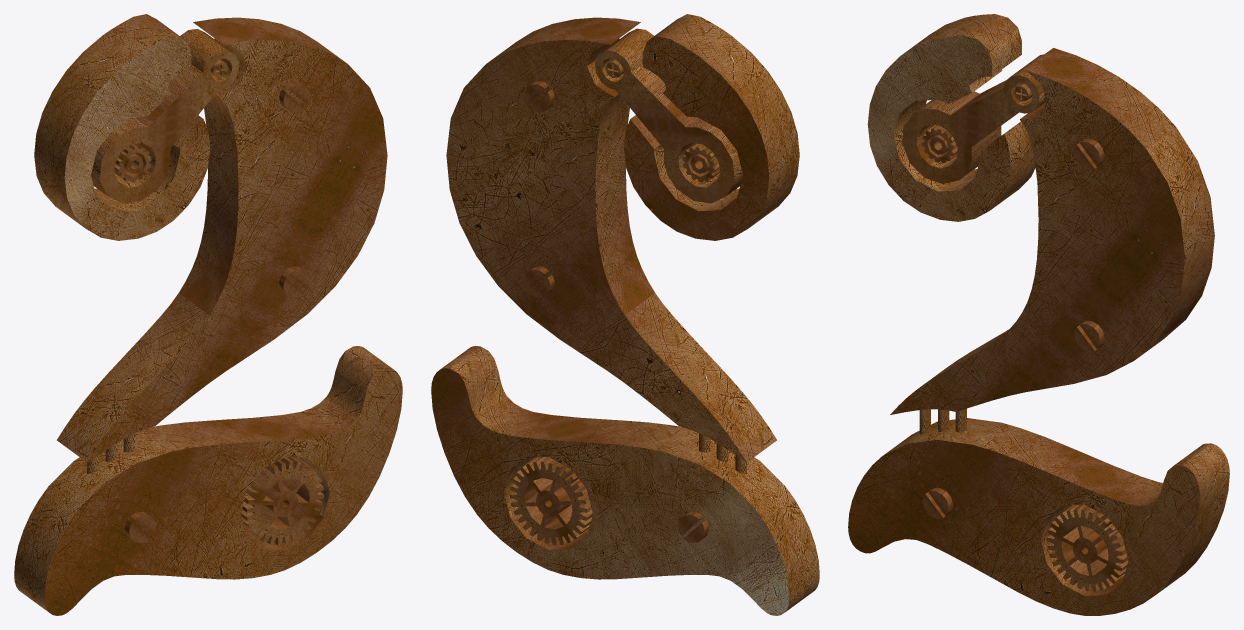
3 renders of one model, left to right at view 1: azimuth 30°, elevation 25°; view 2: azimuth 150°, elevation 25°; view 3: azimuth 330°, elevation 25°, orthographic.
Parts seen in each view (by area): view 1: 035, 052, Lever_035, Cogwheel_386, Cogwheel_433, Screw_717, Screw_754, Screw_766; view 2: 035, 052, Lever_035, Cogwheel_386, Cogwheel_433, Screw_717, Screw_754, Screw_766; view 3: 035, 052, Lever_035, Cogwheel_386, Cogwheel_433, Screw_766, Screw_754, Screw_717.
Boxes of the visible parts, x1,y1,x2,y2 form: 035: [14, 17, 402, 615]; 052: [34, 14, 209, 240]; Lever_035: [91, 28, 239, 203]; Cogwheel_386: [241, 457, 324, 545]; Cogwheel_433: [114, 143, 151, 182]; Screw_717: [279, 266, 309, 297]; Screw_754: [279, 81, 309, 112]; Screw_766: [125, 512, 155, 542]; 035: [431, 17, 819, 615]; 052: [624, 14, 799, 240]; Lever_035: [595, 28, 742, 203]; Cogwheel_386: [509, 457, 592, 544]; Cogwheel_433: [682, 143, 719, 182]; Screw_717: [524, 266, 554, 297]; Screw_754: [524, 81, 554, 112]; Screw_766: [678, 512, 708, 542]; 035: [848, 48, 1229, 615]; 052: [867, 14, 1035, 221]; Lever_035: [902, 54, 1046, 183]; Cogwheel_386: [1047, 504, 1128, 591]; Cogwheel_433: [922, 125, 957, 163]; Screw_766: [922, 487, 952, 518]; Screw_754: [1074, 138, 1104, 169]; Screw_717: [1074, 320, 1104, 351].
Size of the model in its own units: 67.83 by 102 by 12.89.
1 material, 1 textured.
